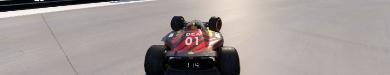Car: (143, 15, 240, 74)
